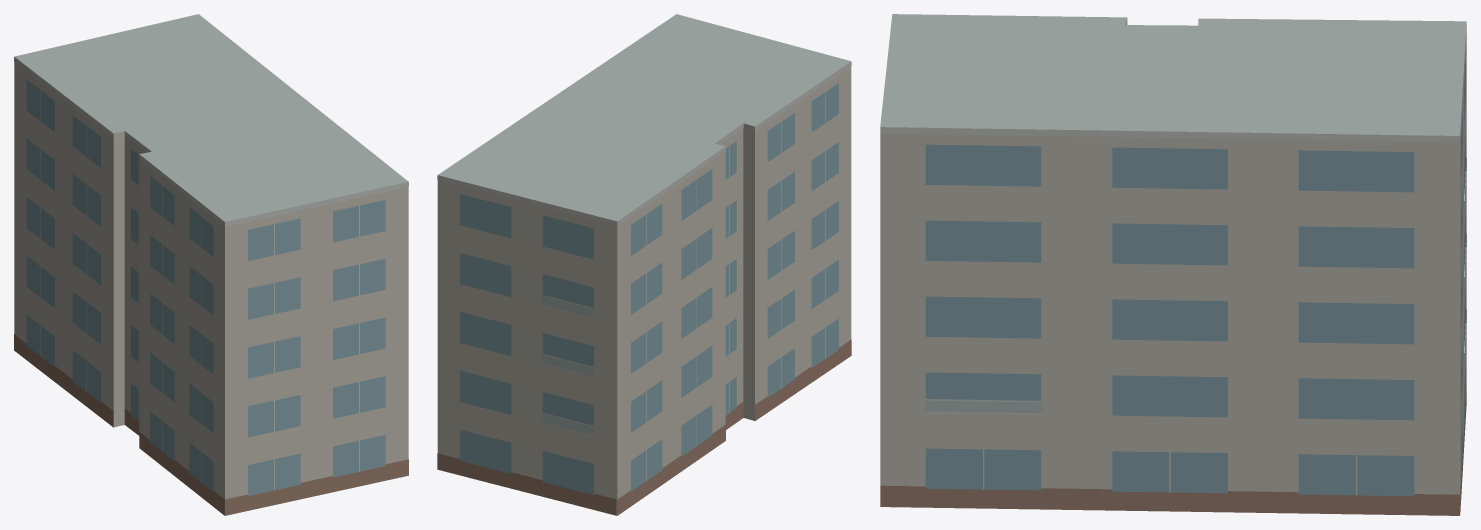
File: survey-upis-32703093.glb
3 views of the same model, side by side, from view 1: azimuth 30°, elevation 25°; view 2: azimuth 150°, elevation 25°; view 3: azimuth 270°, elevation 25° (orthographic). The views are drawn at different scales.
Parts seen in each view (by area): view 1: survey-upis-32703093.tmp; view 2: survey-upis-32703093.tmp; view 3: survey-upis-32703093.tmp.
Boxes of the visible parts, x1=… form: survey-upis-32703093.tmp: x1=14, y1=14, x2=408, y2=515; survey-upis-32703093.tmp: x1=437, y1=14, x2=851, y2=515; survey-upis-32703093.tmp: x1=880, y1=14, x2=1466, y2=515.
Size of the model in its own units: 9.93 by 14.4 by 20.17.
